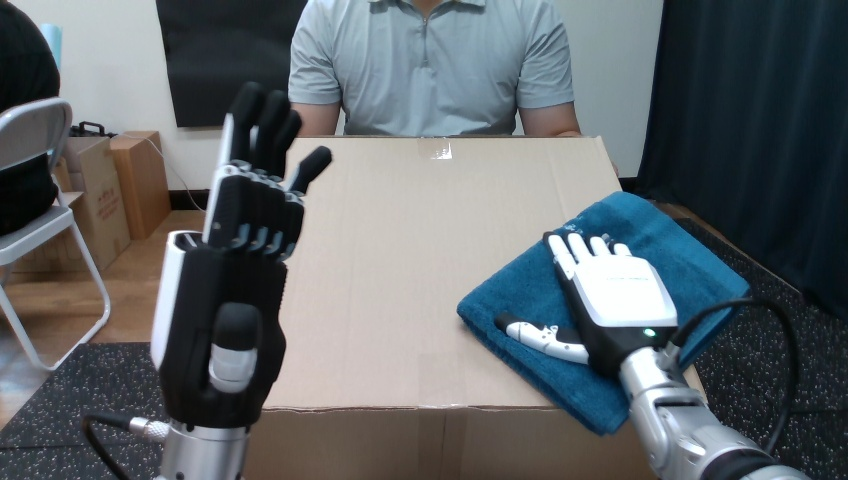left robot arm: (82, 82, 331, 479), (495, 231, 808, 479), (678, 305, 790, 449)
left robot hand: (82, 82, 331, 479), (495, 231, 808, 479), (678, 305, 790, 449)
right robot arm: (82, 82, 331, 479), (495, 231, 808, 479), (678, 305, 790, 449)
right robot hand: (82, 82, 331, 479), (495, 231, 808, 479), (678, 305, 790, 449)
